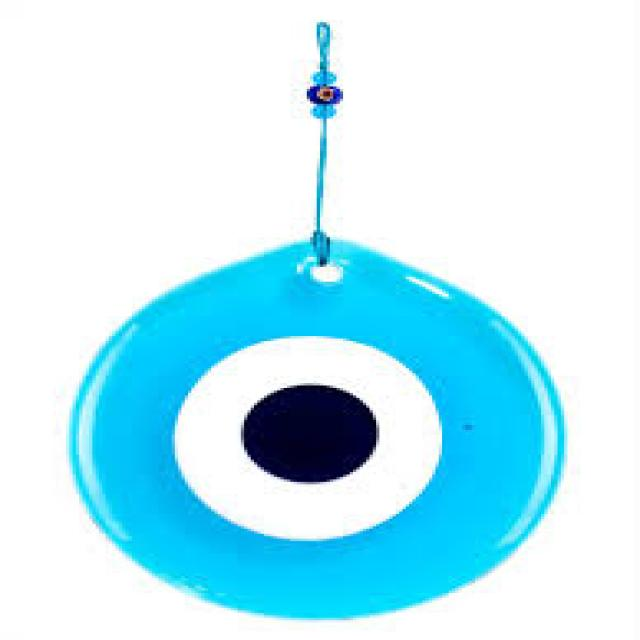Nazar-Boncugu: (63, 22, 571, 625)
